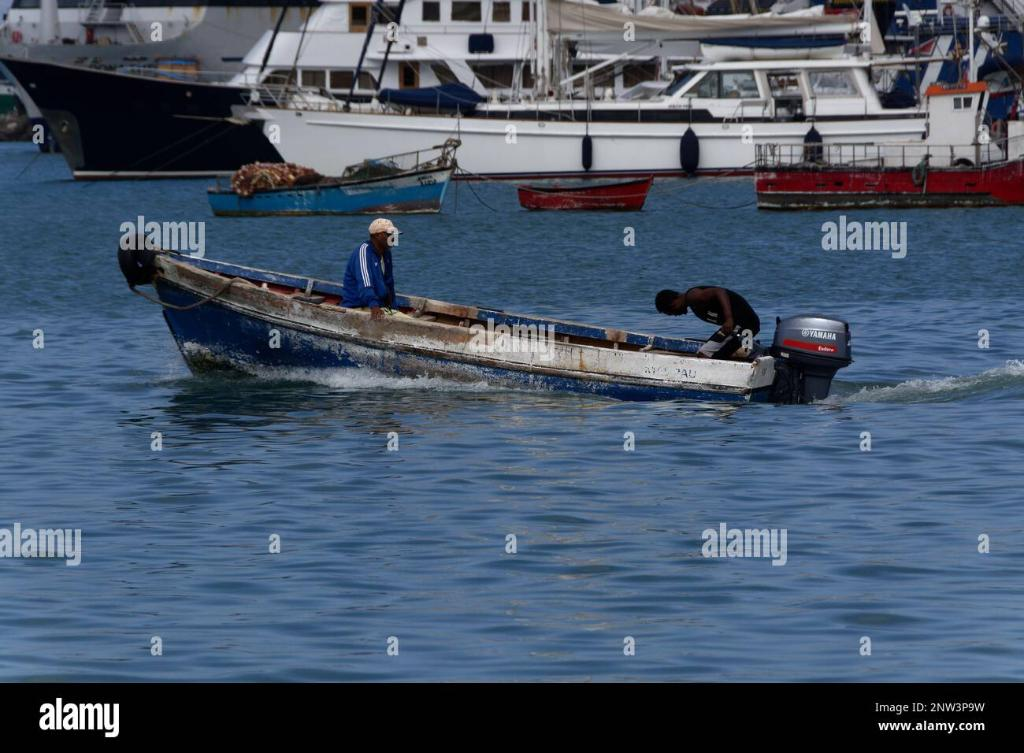PassengerShip: (2, 4, 1014, 186), (226, 33, 1024, 182)
